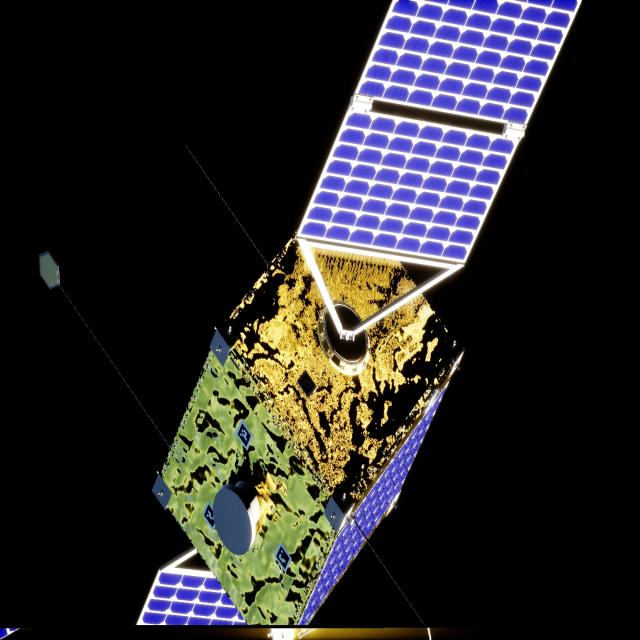medium_debris: (138, 0, 583, 629)
